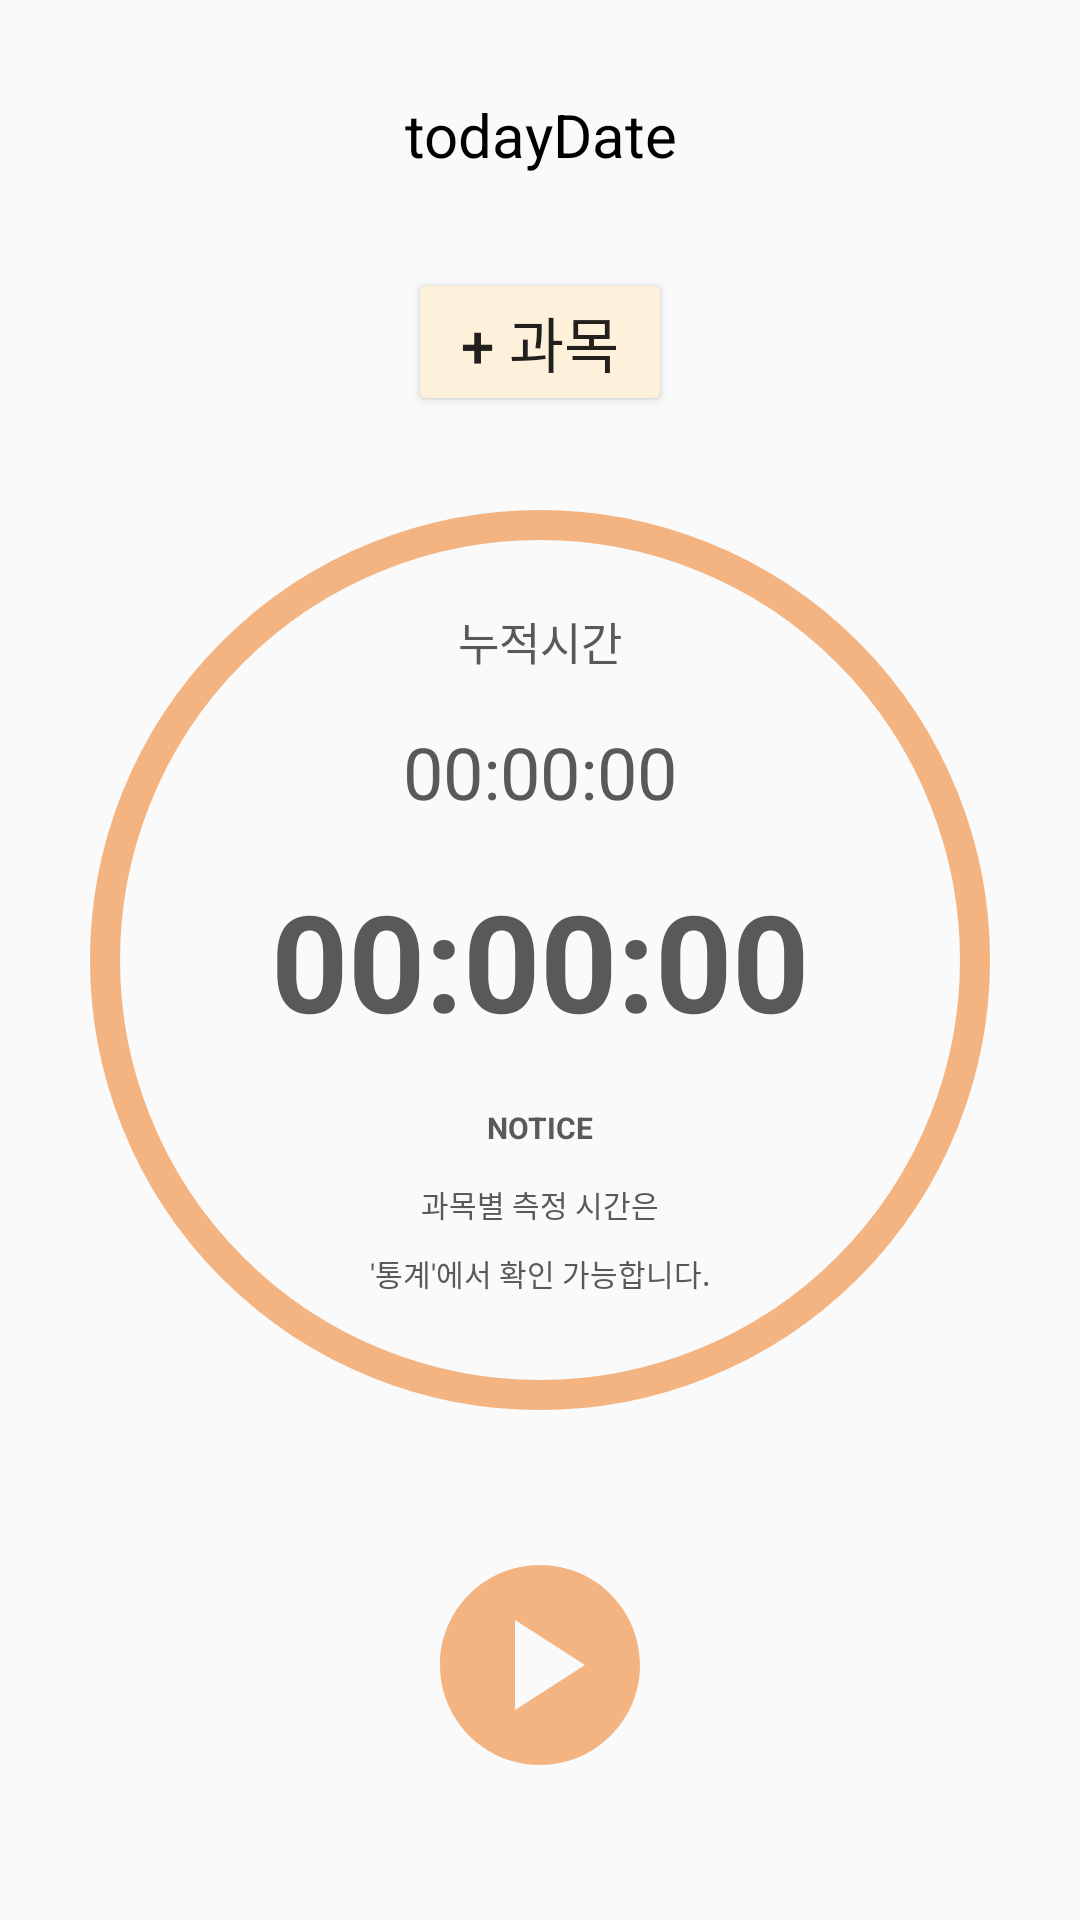

Named icons in this screenshot (1080px x 1920px) and their bounding boxes, bbox(x1, y1, x2, y2):
play circle: bbox(440, 1565, 640, 1765)
